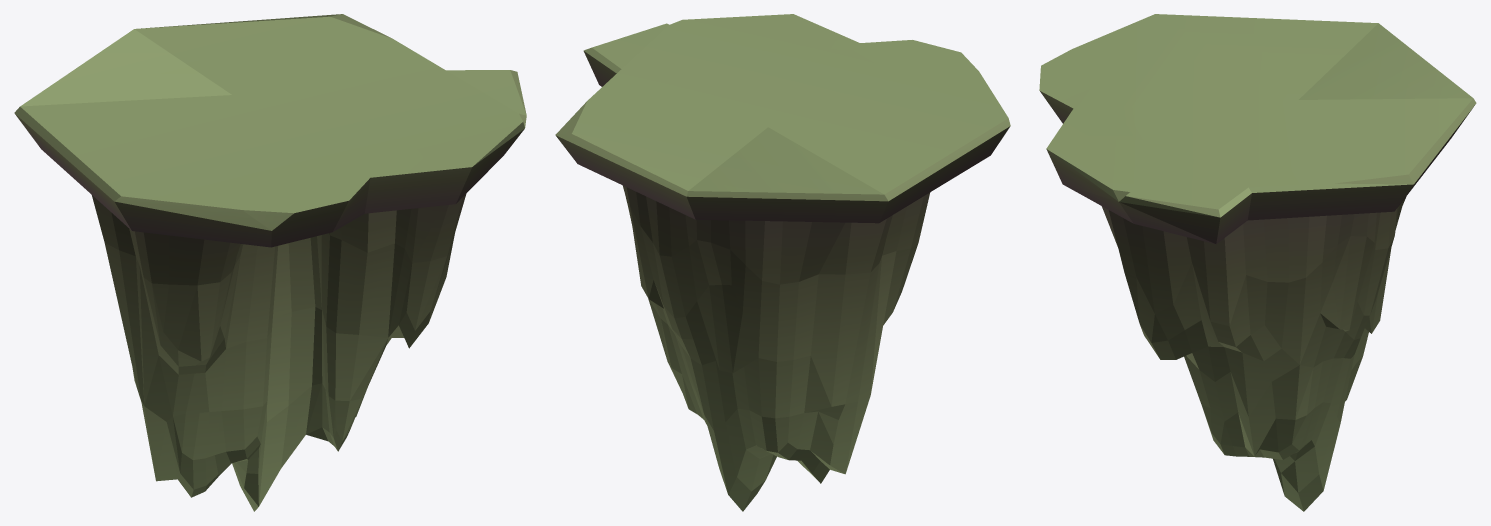
The model's file is Floating_Island_3_Bioma2.fbx.
3 renders of one model, left to right at view 1: azimuth 30°, elevation 25°; view 2: azimuth 150°, elevation 25°; view 3: azimuth 270°, elevation 25°, orthographic. The views are drawn at different scales.
Parts seen in each view (by area): view 1: floe.014, Hill_desert_005.003; view 2: floe.014, Hill_desert_005.003; view 3: floe.014, Hill_desert_005.003.
Part boxes in pixels (left/top/right/bottom): floe.014: left=14, top=14, right=526, bottom=247; Hill_desert_005.003: left=92, top=193, right=466, bottom=511; floe.014: left=555, top=14, right=1010, bottom=223; Hill_desert_005.003: left=622, top=185, right=930, bottom=511; floe.014: left=1039, top=14, right=1476, bottom=243; Hill_desert_005.003: left=1101, top=196, right=1406, bottom=511.
Size of the model in its own units: 1359 by 1268 by 1255.
